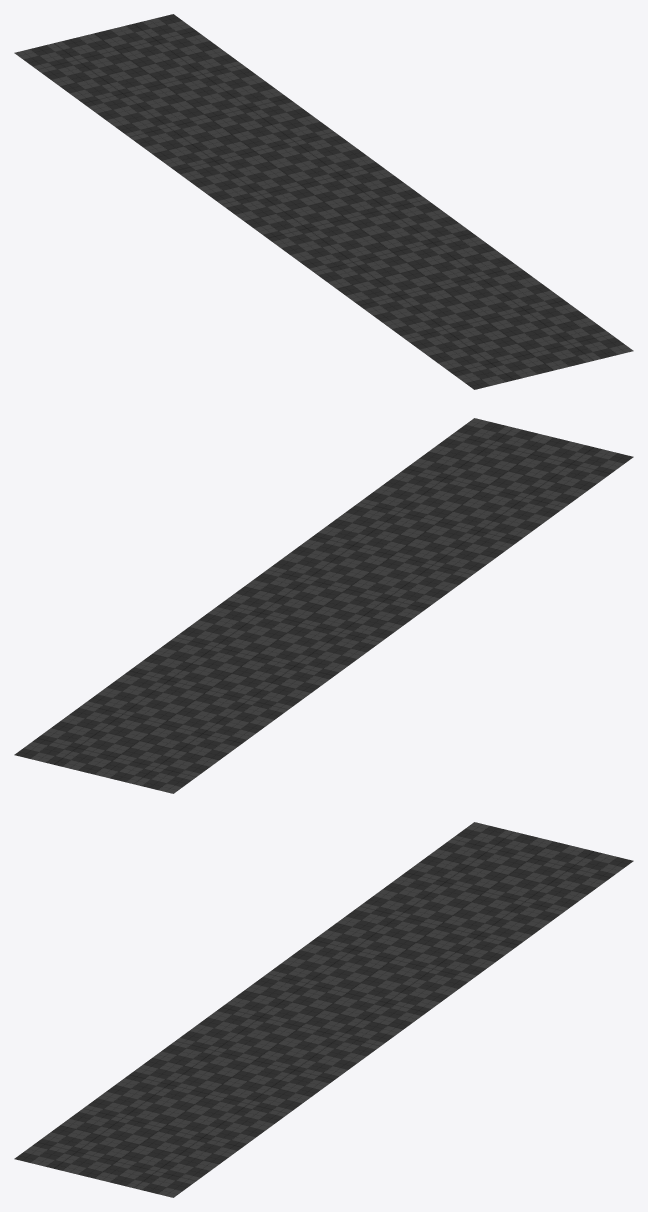
The model's file is stage.obj.
3 renders of one model, top to bottom at view 1: azimuth 30°, elevation 25°; view 2: azimuth 150°, elevation 25°; view 3: azimuth 330°, elevation 25°, orthographic.
Visible parts, largest first — view 1: グリッド; view 2: グリッド; view 3: グリッド.
Boxes of the visible parts, bbox=[...] form: グリッド: bbox=[14, 14, 633, 389]; グリッド: bbox=[14, 418, 633, 793]; グリッド: bbox=[14, 822, 633, 1197].
Bounding box in the file's own units: 200 × 0 × 1000.
Materials: 1 (1 with a texture image).
